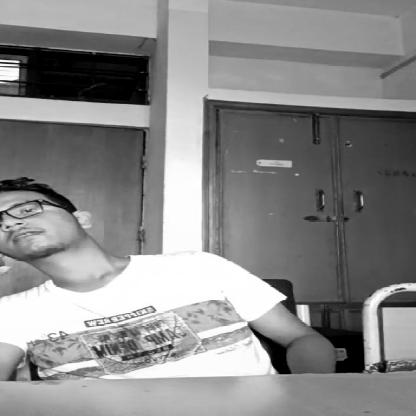Distracted: (0, 185, 90, 266)
